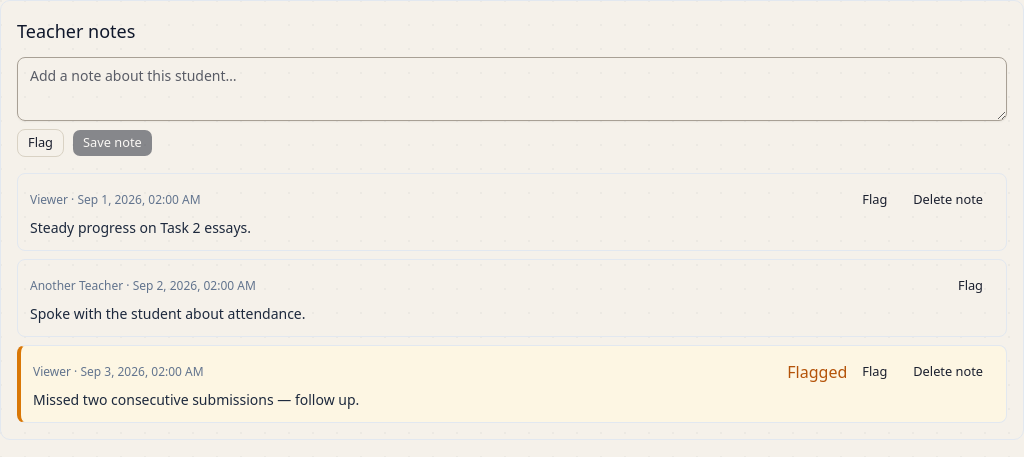
Test: StudentNotesPanel — AC16 composer › P0 Save is disabled while content is empty, enabled after typing
Check: the button "Save note" is disabled, box [72,129,153,157]
Type "Follow up on Task 2 next week" into the text box labelled "Add a note about this student…".
click(512, 89); type("Follow up on Task 2 next week")  # box [17,57,1007,121]
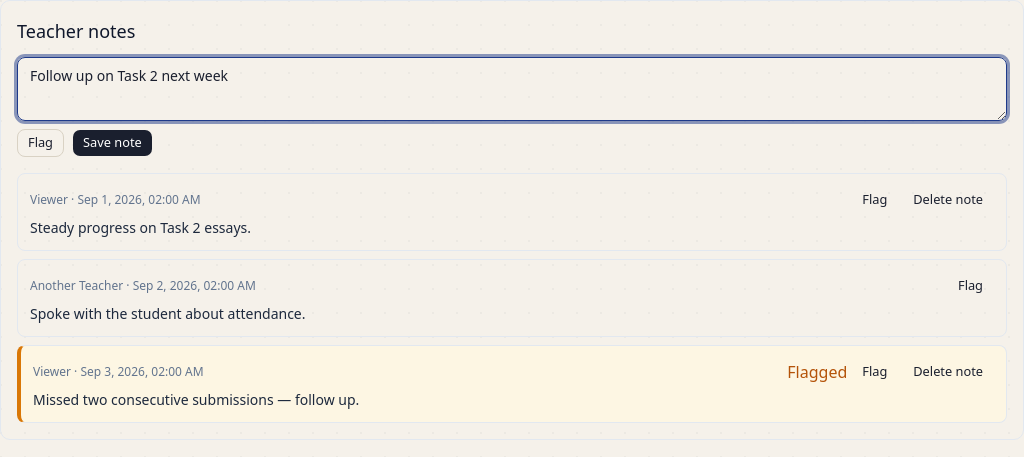
Check: the button "Save note" is enabled, box [72,129,153,157]
